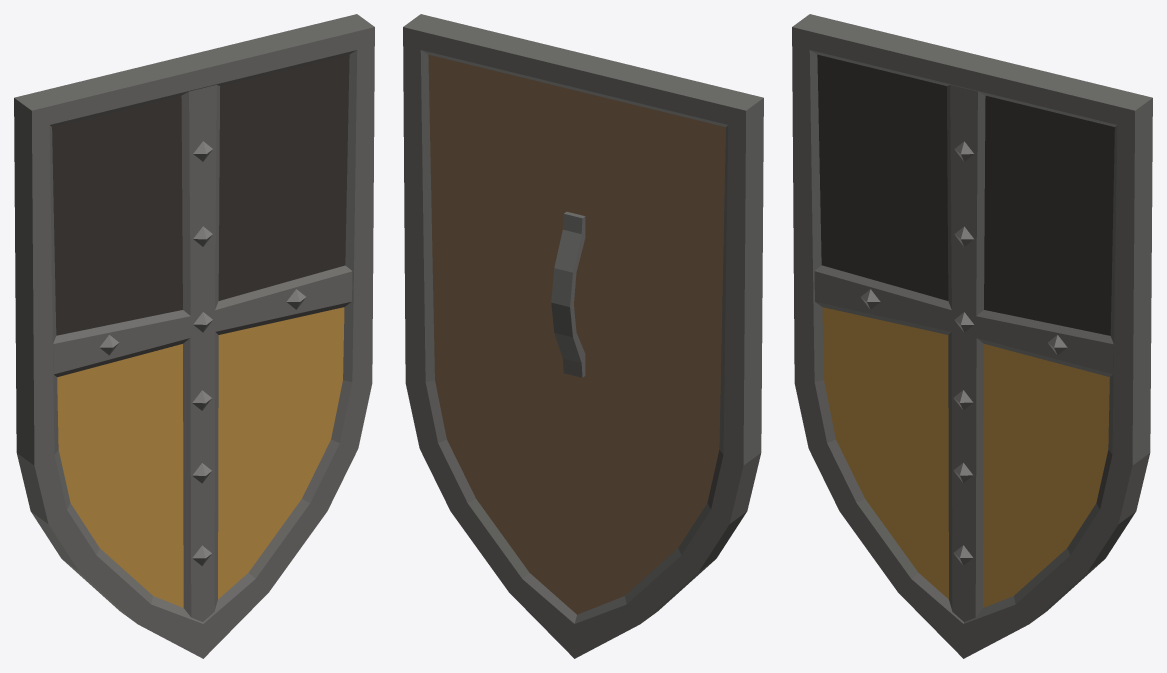
The model's file is SM_pwe_medieval_shield_05c.fbx.
The picture shows the model from 3 angles, left to right: view 1: azimuth 30°, elevation 25°; view 2: azimuth 150°, elevation 25°; view 3: azimuth 330°, elevation 25°; orthographic projection.
Visible parts, largest first — view 1: SM_pwe_medieval_shield_05c; view 2: SM_pwe_medieval_shield_05c; view 3: SM_pwe_medieval_shield_05c.
Boxes of the visible parts, x1,y1,x2,y2 form: SM_pwe_medieval_shield_05c: (14, 14, 374, 658); SM_pwe_medieval_shield_05c: (403, 14, 763, 658); SM_pwe_medieval_shield_05c: (792, 14, 1152, 658).
Size of the model in its own units: 49.37 by 81.14 by 8.37.
